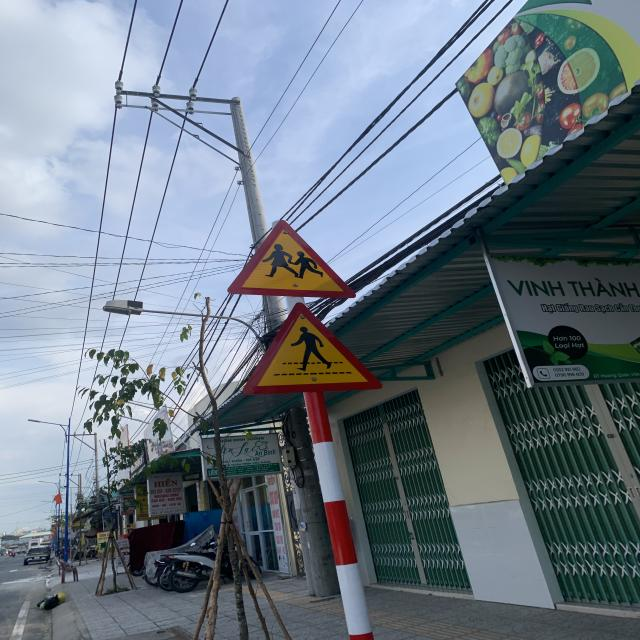Duong_Nguoi_Di_Bo_Sang_Ngang: (242, 302, 382, 395)
Vong_Xuyen: (226, 219, 357, 298)
